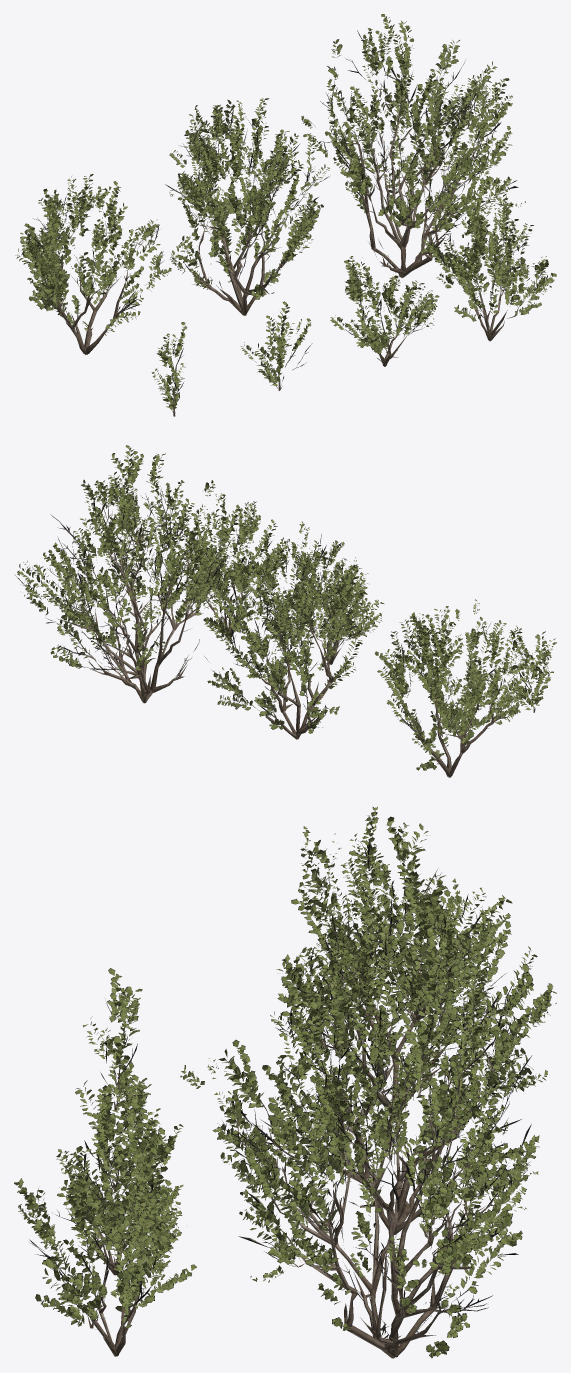
Rendered from searsia_lucida.glb.
3 views of the same model, one above another, from view 1: azimuth 30°, elevation 25°; view 2: azimuth 150°, elevation 25°; view 3: azimuth 270°, elevation 25° (orthographic). The views are drawn at different scales.
Visible parts, largest first — view 1: searsia_lucida_a_LOD0; view 2: searsia_lucida_a_LOD0; view 3: searsia_lucida_a_LOD0.
Boxes of the visible parts, <box> form: searsia_lucida_a_LOD0: <box>15,14,556,416</box>; searsia_lucida_a_LOD0: <box>14,445,556,777</box>; searsia_lucida_a_LOD0: <box>14,806,556,1358</box>.
Bounding box in the file's own units: 4.76 × 2.33 × 2.83.
Materials: 2 (2 with a texture image).
